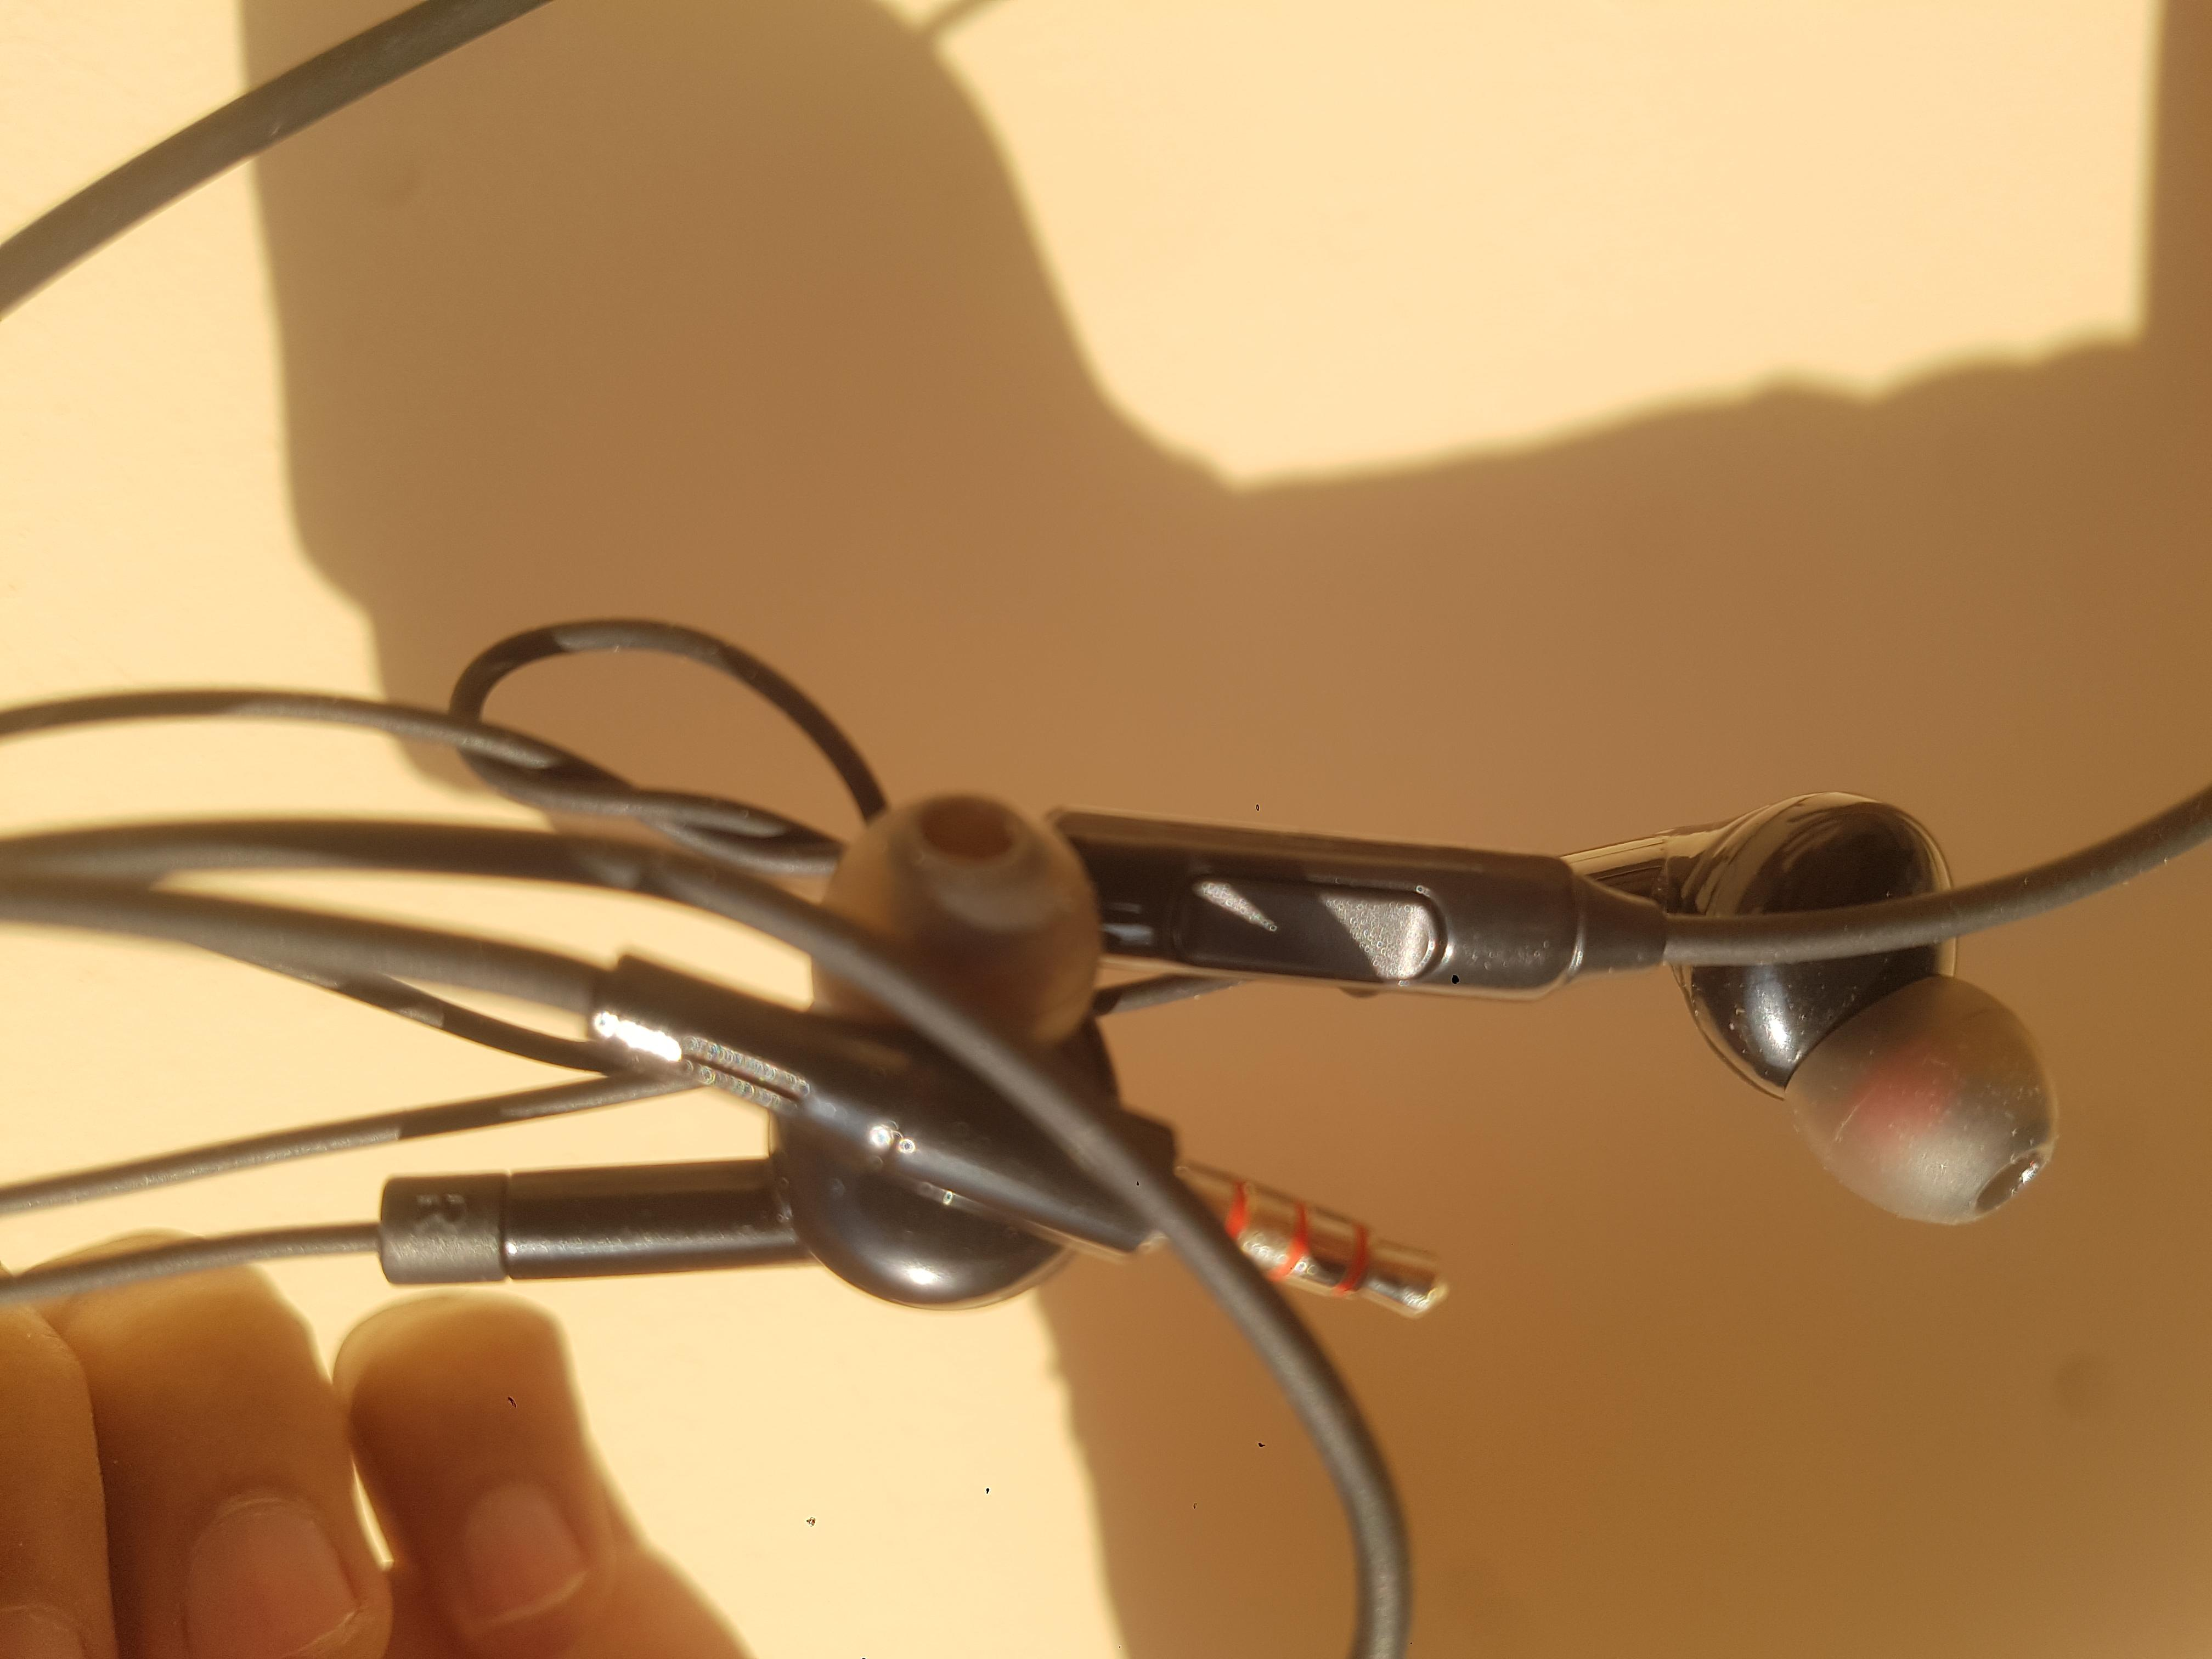electronic: (314, 0, 1368, 1589)
